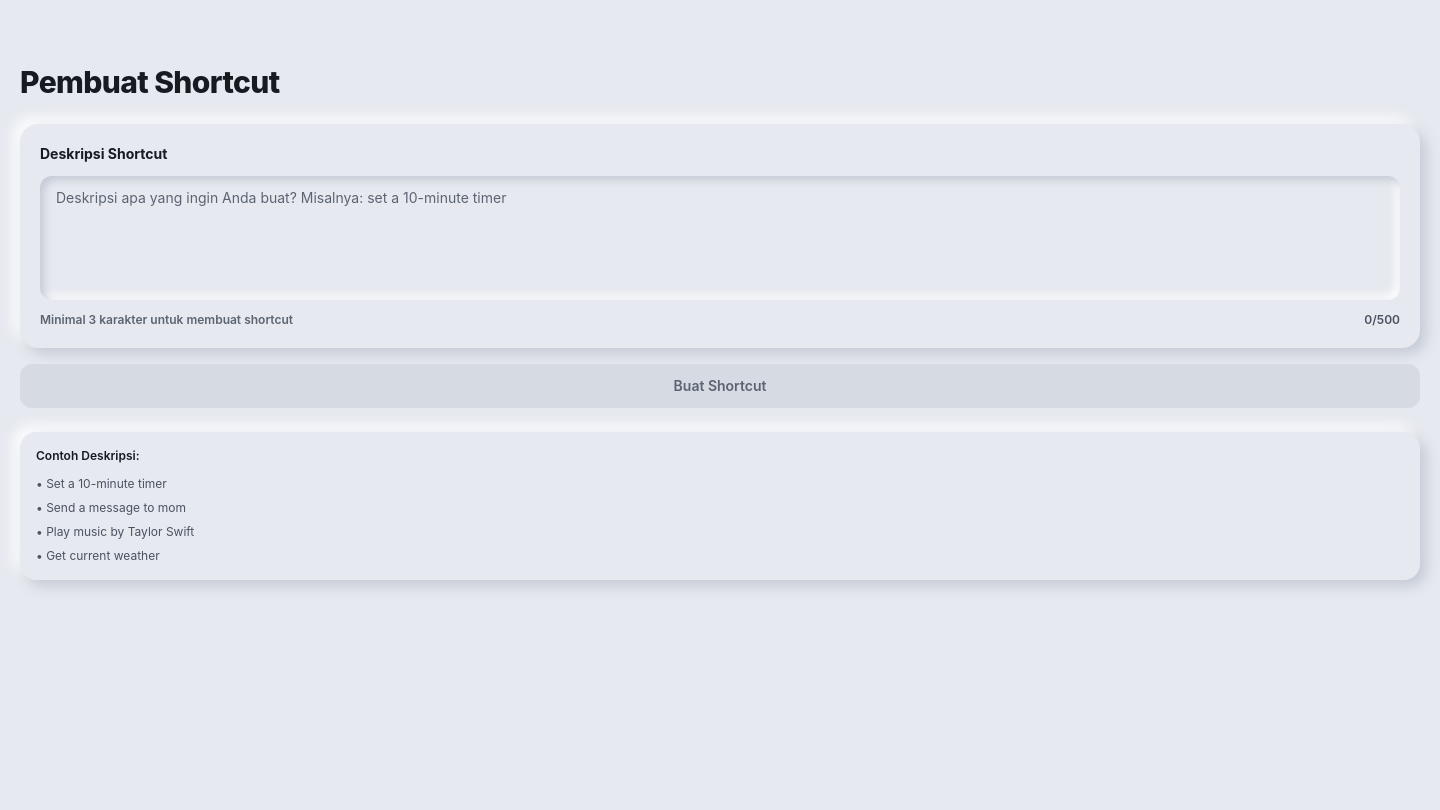
Scenario: ShortcutsScreen - E2E Frontend Tests › 1. Happy Path: Valid Shortcut Generation › renders the backend message and suggestion when generation fails
This screenshot has width=1440, height=810.
Type "do something impossible" into the text box with placeholder "Deskripsi apa" at (720, 238), box [40,176,1400,300]
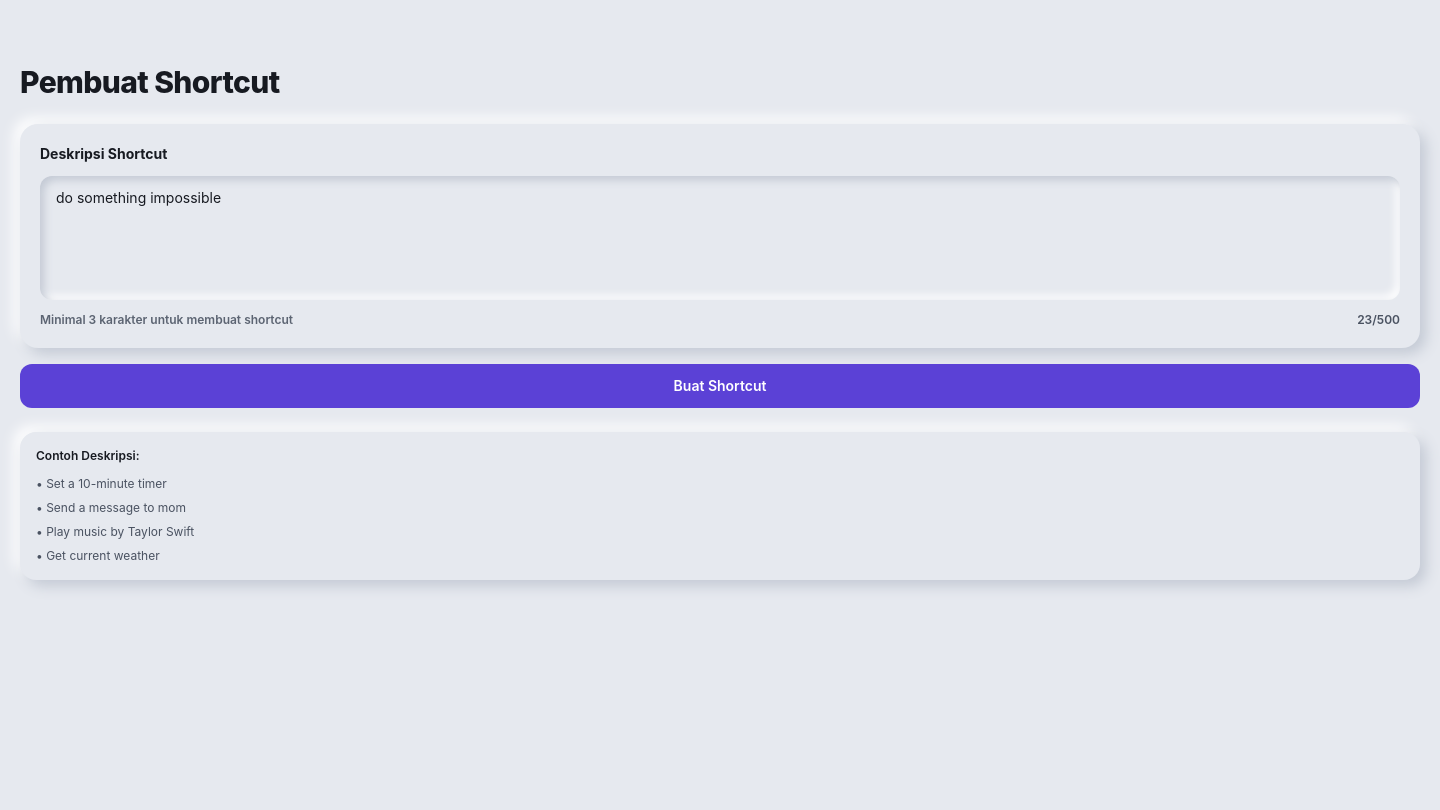
Click the button "Buat Shortcut" at (720, 386), box [20,364,1420,408]
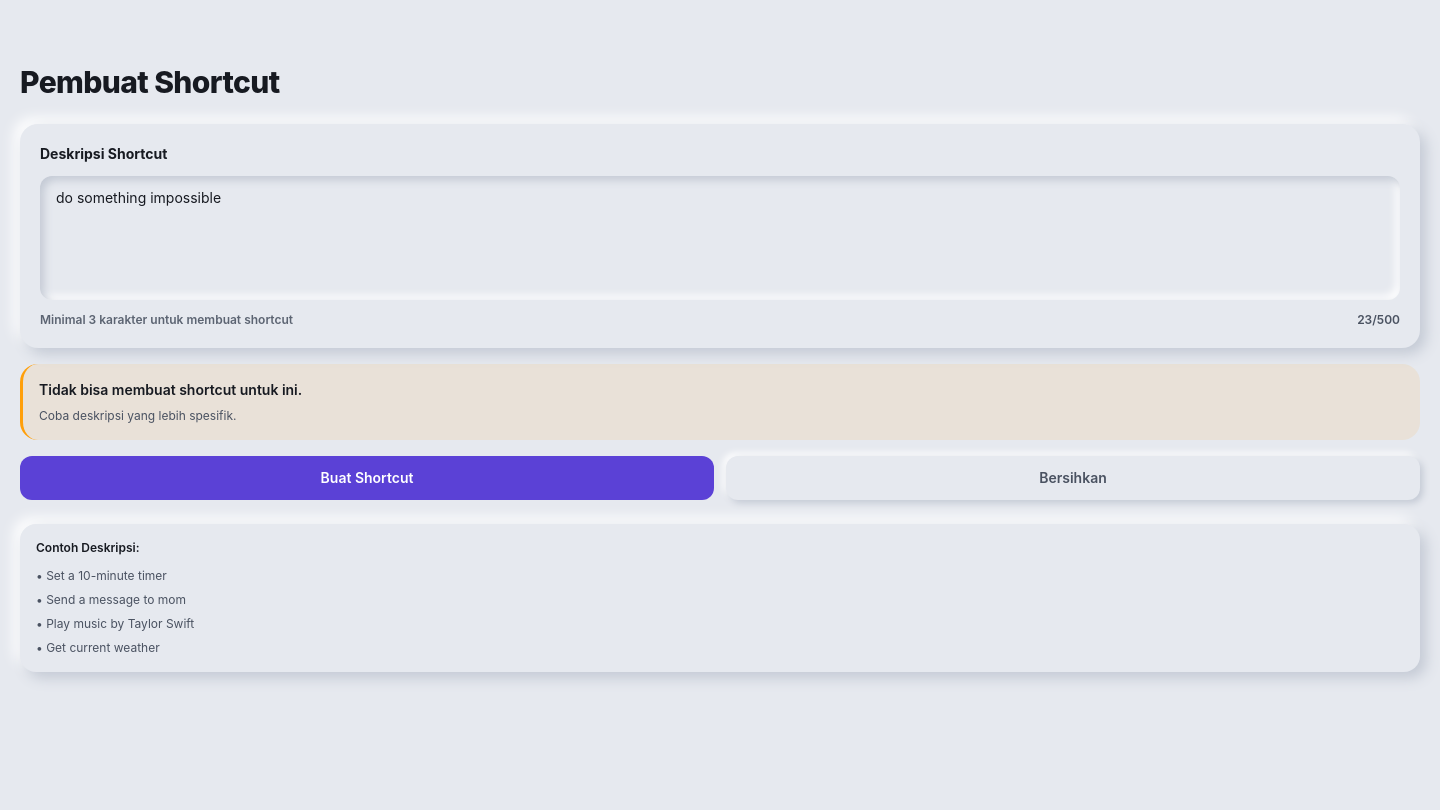
Check: the text "Tidak bisa membuat shortcut untuk ini." is shown, box [39,381,302,398]
Check: the text "Coba deskripsi yang lebih spesifik." is shown, box [39,408,236,423]
